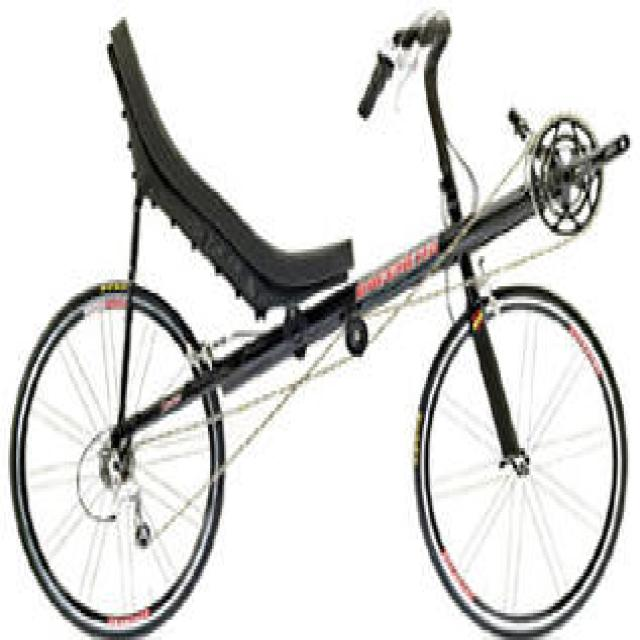recumbent-bike: (10, 5, 633, 640)
